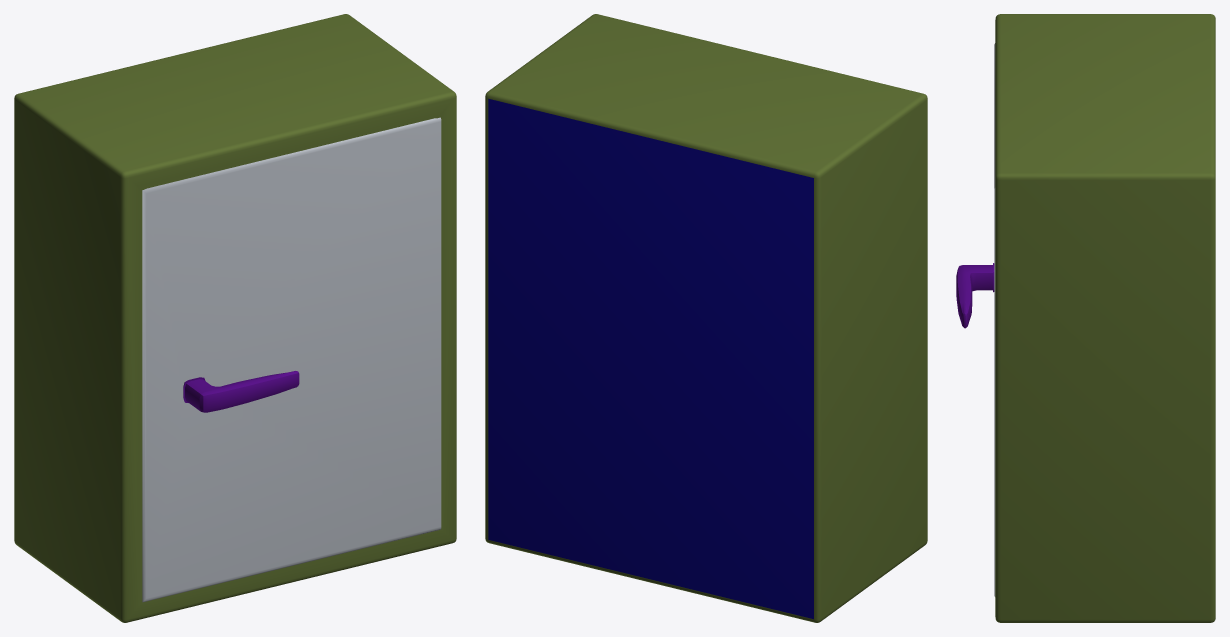
Rendered from ArmarioPequeño (1).fbx.
The picture shows the model from 3 angles, left to right: view 1: azimuth 30°, elevation 25°; view 2: azimuth 150°, elevation 25°; view 3: azimuth 270°, elevation 25°; orthographic projection.
Parts seen in each view (by area): view 1: Puerta, Armario; view 2: Armario; view 3: Armario, Puerta.
Part boxes in pixels (x1,y1,x2,y2): Puerta: (142,117,441,602); Armario: (14,14,456,622); Armario: (485,14,927,622); Armario: (995,14,1215,622); Puerta: (956,43,995,596).
Bounding box in the file's own units: 0.7 × 0.9 × 0.4713.
